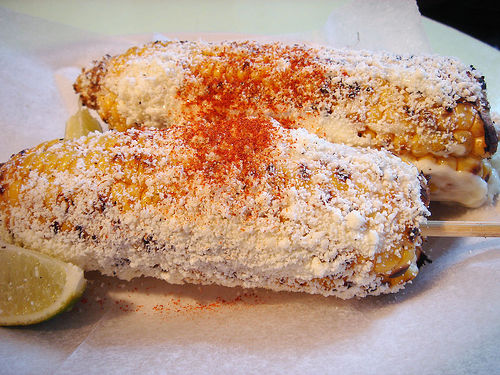corn: (0, 136, 431, 297), (68, 35, 499, 184)
